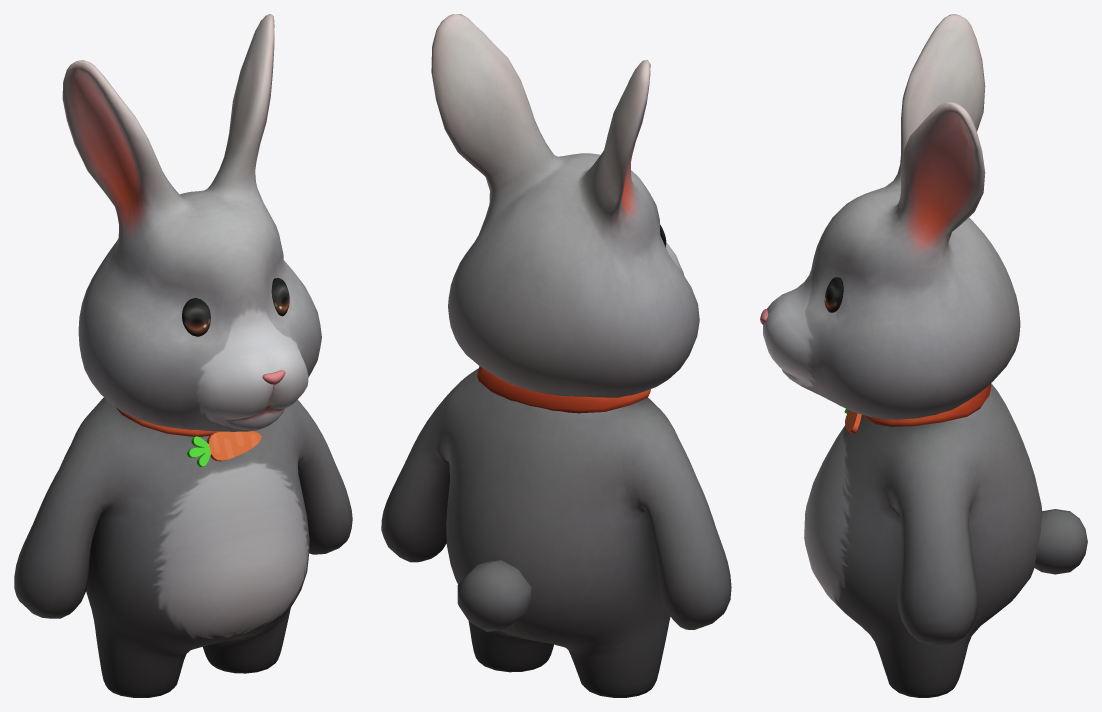
The model's file is RabbitLumber.fbx.
3 views of the same model, side by side, from view 1: azimuth 30°, elevation 25°; view 2: azimuth 150°, elevation 25°; view 3: azimuth 270°, elevation 25° (orthographic). The views are drawn at different scales.
Parts seen in each view (by area): view 1: Rabbit_Body, Rabbit_Acc, Rabbit_Eye_R, Rabbit_Eye_L; view 2: Rabbit_Body, Rabbit_Tail, Rabbit_Acc; view 3: Rabbit_Body, Rabbit_Tail, Rabbit_Acc, Rabbit_Eye_L.
Part boxes in pixels (left/top/right/bottom): Rabbit_Body: left=14, top=14, right=352, bottom=697; Rabbit_Acc: left=115, top=407, right=261, bottom=467; Rabbit_Eye_R: left=182, top=298, right=210, bottom=336; Rabbit_Eye_L: left=271, top=278, right=289, bottom=316; Rabbit_Body: left=381, top=14, right=731, bottom=697; Rabbit_Tail: left=457, top=560, right=531, bottom=631; Rabbit_Acc: left=477, top=366, right=650, bottom=413; Rabbit_Body: left=760, top=14, right=1042, bottom=697; Rabbit_Tail: left=1034, top=509, right=1087, bottom=574; Rabbit_Acc: left=844, top=383, right=991, bottom=433; Rabbit_Eye_L: left=824, top=277, right=843, bottom=312.
Size of the model in its own units: 230 by 420 by 207.
